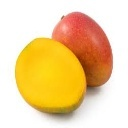mango: (15, 38, 87, 113)
